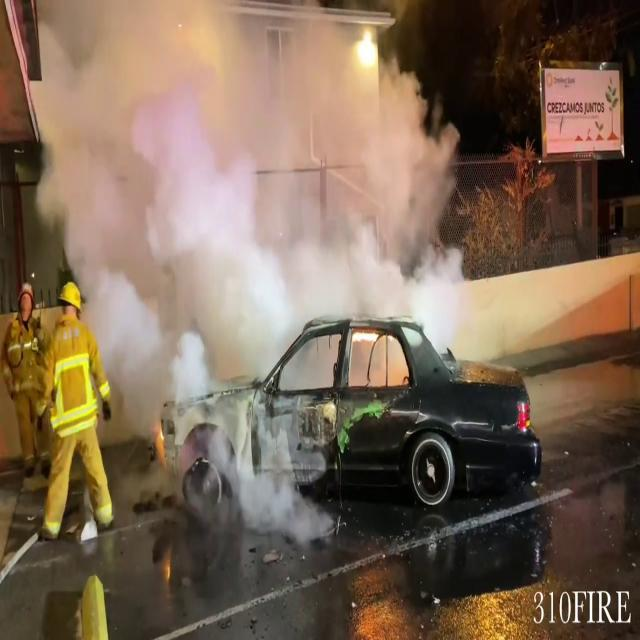Fire: (350, 29, 382, 77)
Smoke: (14, 0, 483, 362), (207, 408, 331, 536)
